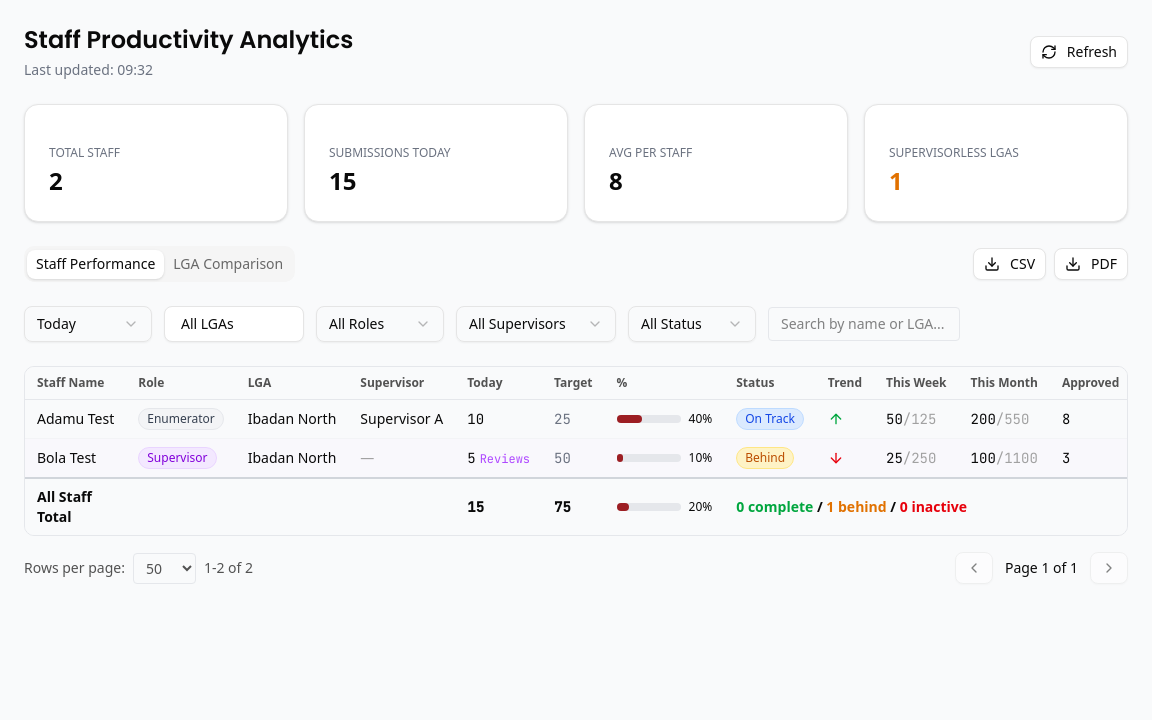
Test: SuperAdminProductivityPage › tab switching works (click LGA Comparison tab, verify LGA data renders)
Expected: the element with test id "cross-lga-staff-table" is shown, top-left (24, 366), bottom-right (1128, 584)
// Click on LGA Comparison tab
Click the tab with test id "tab-lga-comparison" at (228, 264), box top-left (164, 250), bottom-right (292, 278)
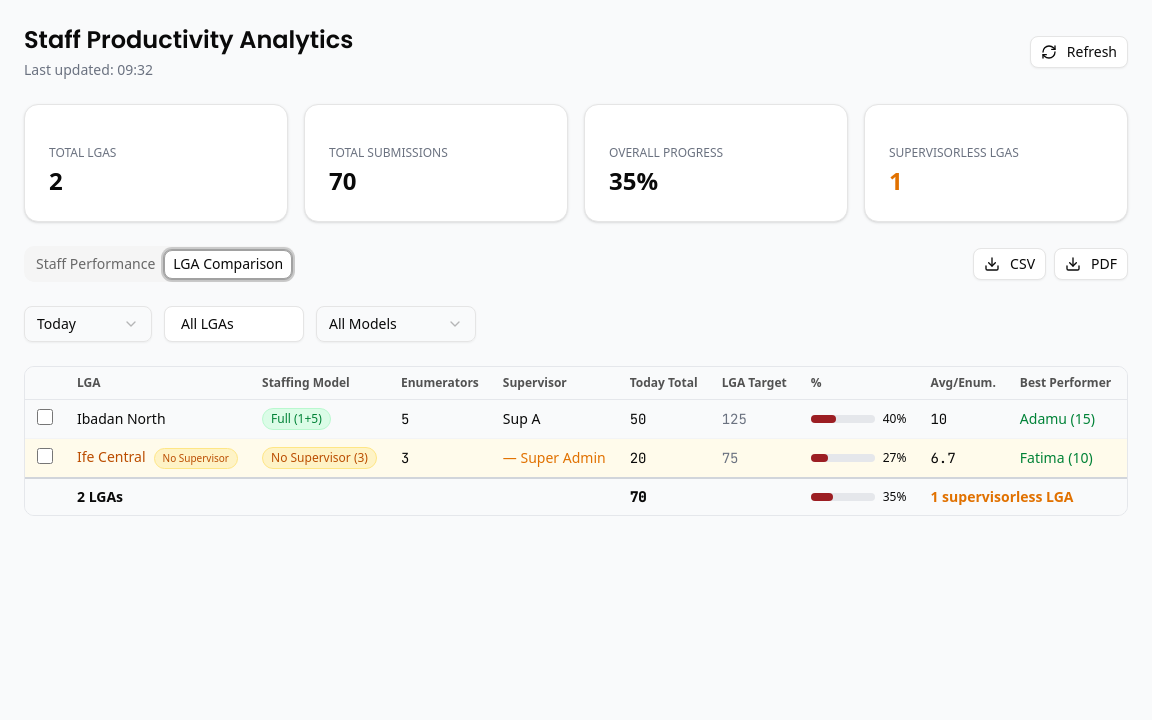
Expected: the element with test id "lga-comparison-table" is shown, top-left (24, 366), bottom-right (1128, 516)
Expected: the text "Ibadan North" is shown, top-left (77, 409), bottom-right (166, 428)
Expected: the text "Ife Central" is shown, top-left (77, 447), bottom-right (146, 466)
